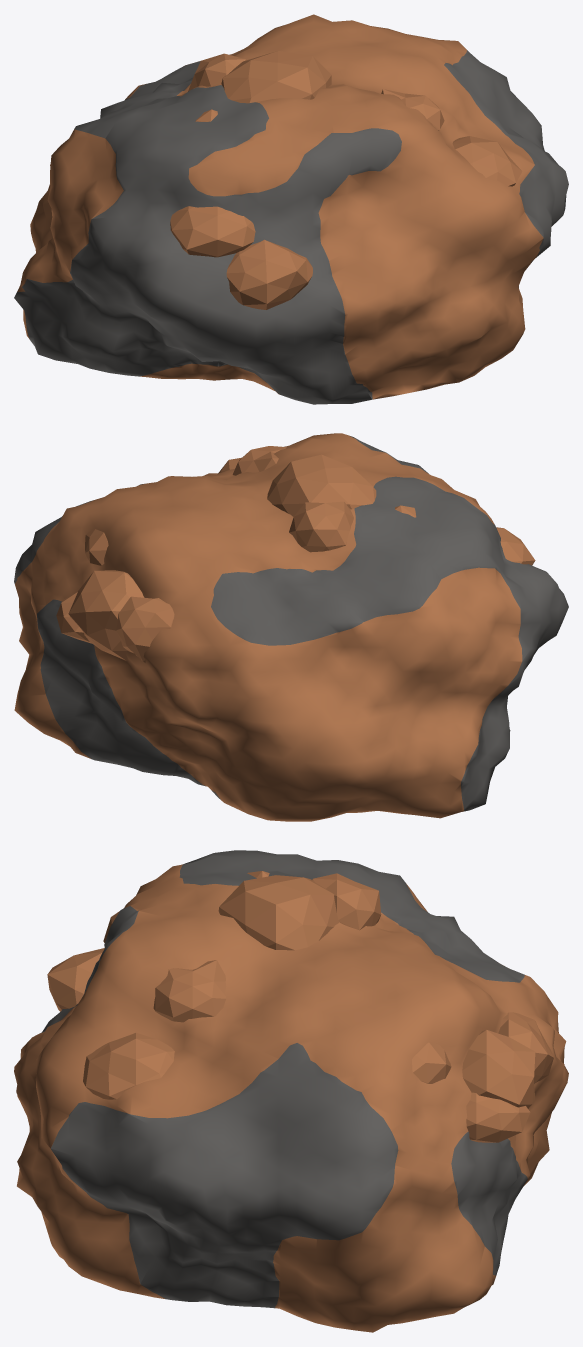
Rendered from bauxite_deep.glb.
3 views of the same model, one above another, from view 1: azimuth 30°, elevation 25°; view 2: azimuth 150°, elevation 25°; view 3: azimuth 270°, elevation 25° (orthographic). The views are drawn at different scales.
Visible parts, largest first — view 1: bauxite_deep; view 2: bauxite_deep; view 3: bauxite_deep.
Boxes of the visible parts, box(x1,y1,x2,y2) form: bauxite_deep: box(14, 14, 568, 404); bauxite_deep: box(14, 433, 568, 821); bauxite_deep: box(14, 850, 568, 1332).
Bounding box in the file's own units: 1.81 × 0.9565 × 1.52.
